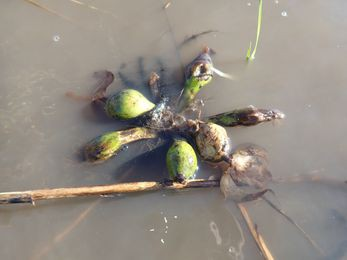water_hyacinth: (81, 56, 290, 209)
